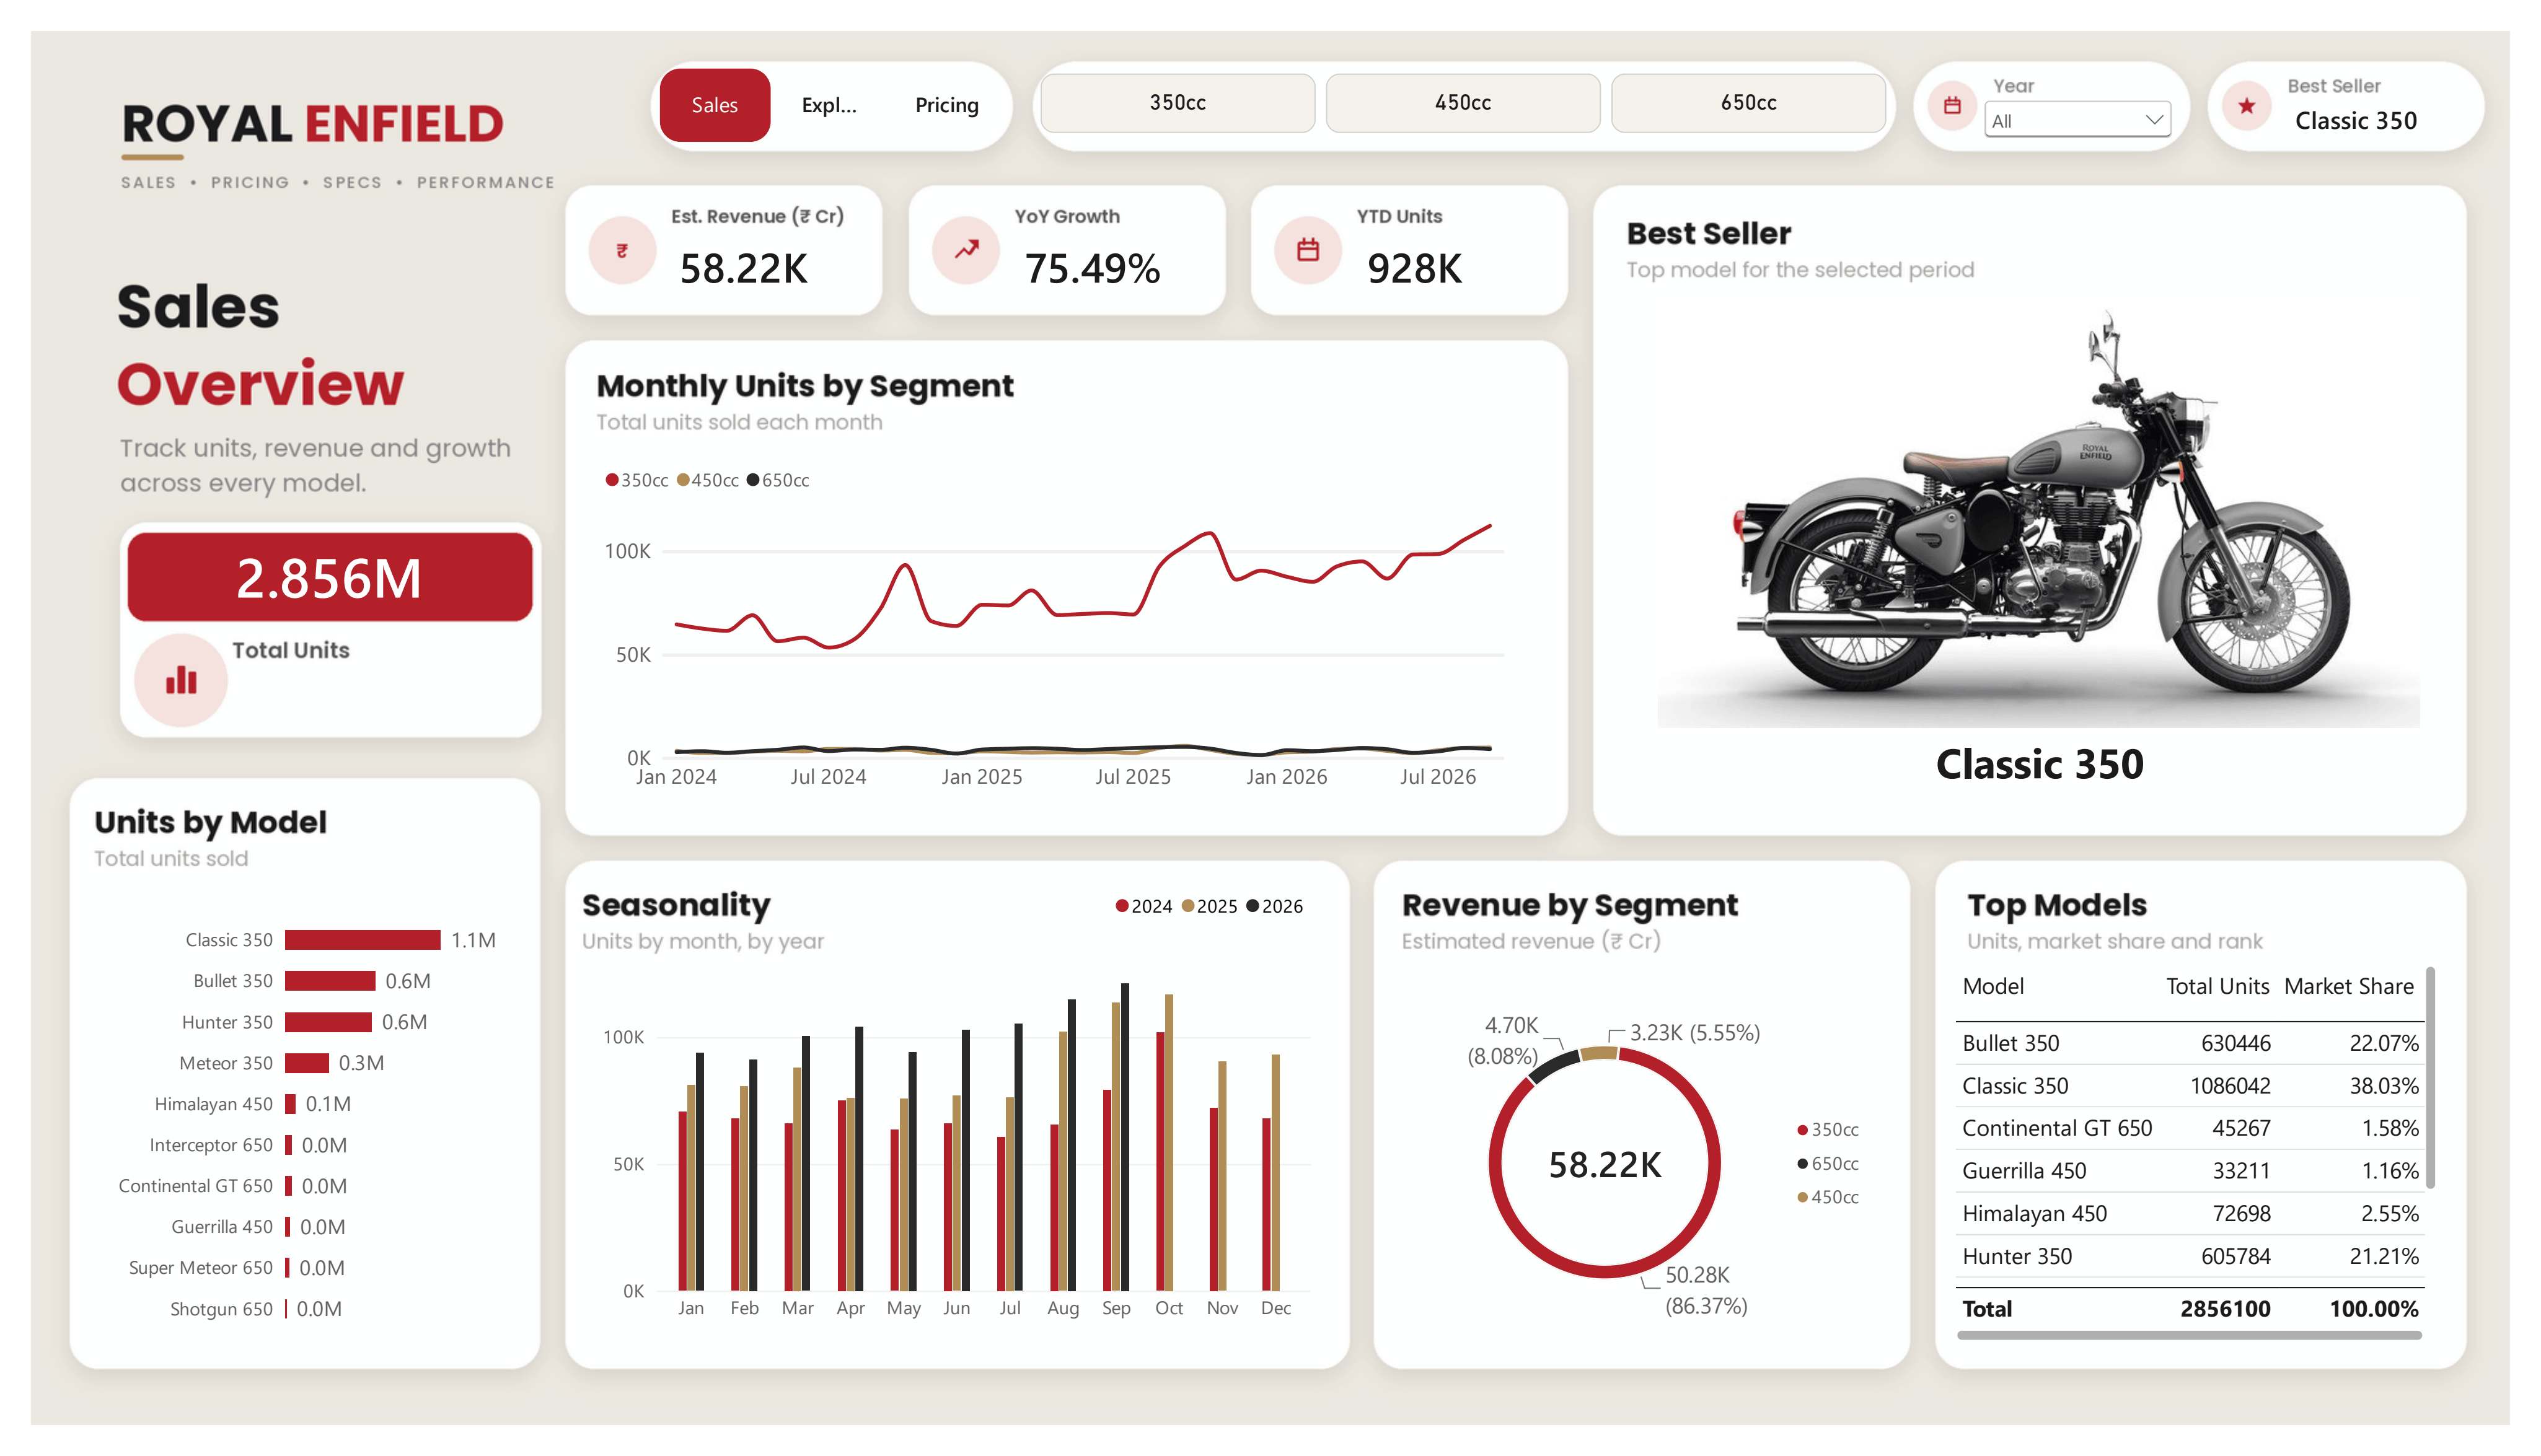

The page's visual inventory and layout, read from the dashboard file:
{"tool":"powerbi","page":{"name":"Sales","canvas":[1920,1080],"ordinal":0},"visuals":[{"type":"pageNavigator","box":[486.8,28.6,268,57],"z":0},{"type":"slicer","fields":{"Values":["Dim_Date.Year"]},"box":[1508,49.3,154.6,42],"z":1000},{"type":"cardVisual","fields":{"Data":["Fact_Sales.Total Units"]},"box":[75.5,386.5,313,68],"z":2000},{"type":"advancedSlicerVisual","fields":{"Values":["Dim_Bike.Segment"]},"box":[782.2,33.1,655.2,46],"z":3000},{"type":"cardVisual","fields":{"Data":["Fact_Sales.Top Model"]},"box":[1737.5,50,142.5,36.2],"z":4000},{"type":"cardVisual","fields":{"Data":["Fact_Sales.Est Revenue Cr"]},"box":[486.2,155,158,52],"z":5000},{"type":"cardVisual","fields":{"Data":["Fact_Sales.YoY %"]},"box":[753.8,155,158,52],"z":6000},{"type":"cardVisual","fields":{"Data":["Fact_Sales.YTD Units"]},"box":[1018.8,155,158,52],"z":7000},{"type":"lineChart","fields":{"Category":["Fact_Sales.Month"],"Series":["Dim_Bike.Segment"],"Y":["Fact_Sales.Total Units"]},"box":[427.5,317.5,748,293],"z":8000},{"type":"image","box":[1250,207.5,610,332.5],"z":9000},{"type":"cardVisual","fields":{"Data":["Fact_Sales.Top Model"]},"box":[1258,540,596,50],"z":10000},{"type":"clusteredColumnChart","fields":{"Category":["Dim_Date.Month"],"Series":["Dim_Date.Year"],"Y":["Fact_Sales.Total Units"]},"box":[427,647.9,579.8,373.6],"z":11000},{"type":"donutChart","fields":{"Category":["Dim_Bike.Segment"],"Y":["Fact_Sales.Est Revenue Cr"]},"box":[1056,725,385,305],"z":12000},{"type":"tableEx","fields":{"Values":["Dim_Bike.Model","Fact_Sales.Total Units","Fact_Sales.Market Share"]},"box":[1474.2,710.4,404.9,320.2],"z":13000},{"type":"clusteredBarChart","fields":{"Category":["Dim_Bike.Model"],"Y":["Fact_Sales.Total Units"]},"box":[45,662,334,365],"z":14000}]}

Visuals, with their boxes on the page's 1920x1080 design canvas (x1, y1, x2, y2). These are canvas units, not pixel positions in the 2541x1456 screenshot, which may show the page scaled, cropped or inside an application window:
pageNavigator: (487,29,755,86)
slicer - Dim_Date.Year: (1508,49,1663,91)
cardVisual - Fact_Sales.Total Units: (76,386,388,454)
advancedSlicerVisual - Dim_Bike.Segment: (782,33,1437,79)
cardVisual - Fact_Sales.Top Model: (1738,50,1880,86)
cardVisual - Fact_Sales.Est Revenue Cr: (486,155,644,207)
cardVisual - Fact_Sales.YoY %: (754,155,912,207)
cardVisual - Fact_Sales.YTD Units: (1019,155,1177,207)
lineChart - Fact_Sales.Month x Dim_Bike.Segment: (428,318,1176,610)
image: (1250,208,1860,540)
cardVisual - Fact_Sales.Top Model: (1258,540,1854,590)
clusteredColumnChart - Dim_Date.Month x Dim_Date.Year: (427,648,1007,1022)
donutChart - Dim_Bike.Segment x Fact_Sales.Est Revenue Cr: (1056,725,1441,1030)
tableEx - Dim_Bike.Model x Fact_Sales.Total Units: (1474,710,1879,1031)
clusteredBarChart - Dim_Bike.Model x Fact_Sales.Total Units: (45,662,379,1027)
